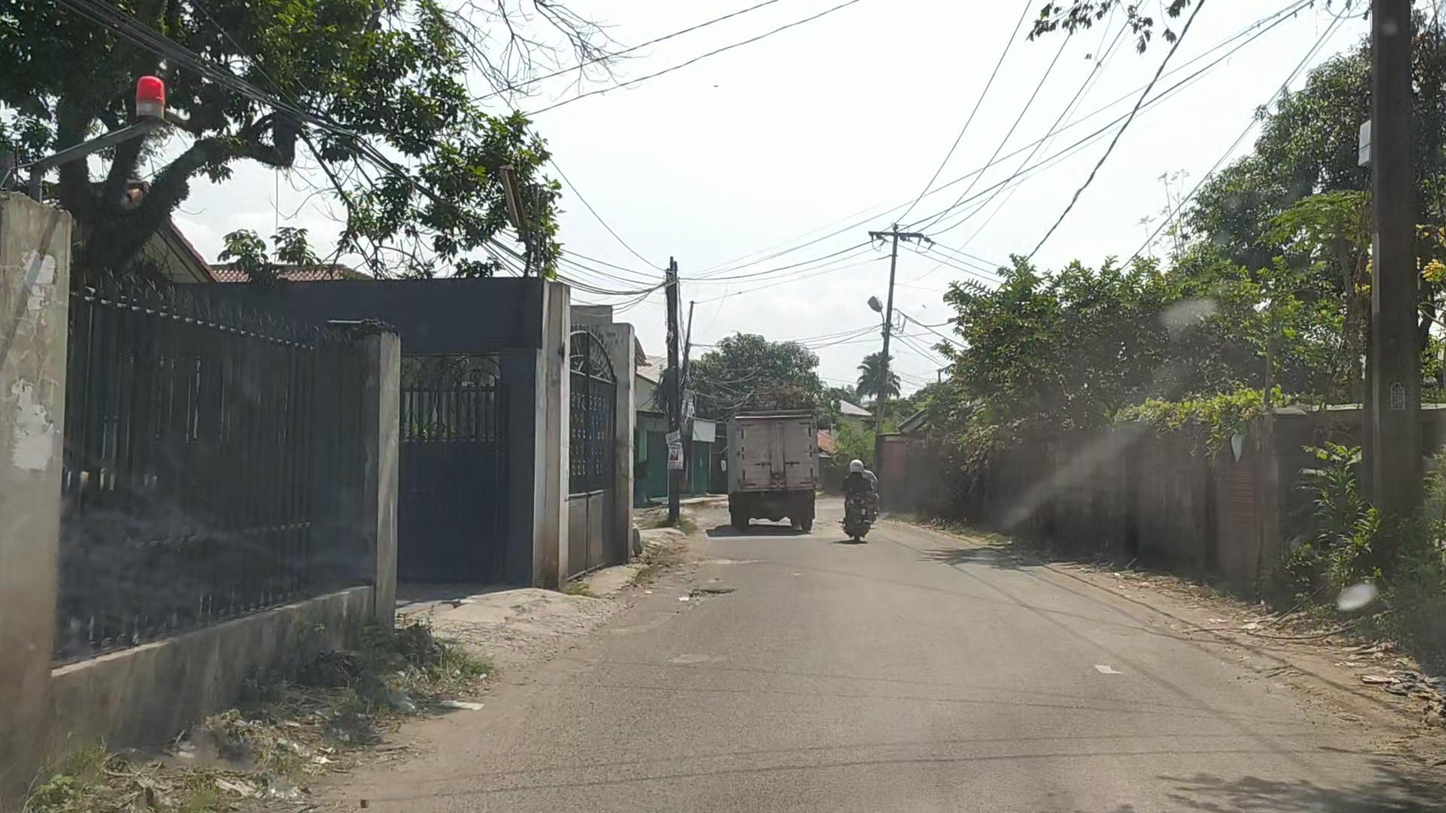pothole: (686, 586, 736, 602)
